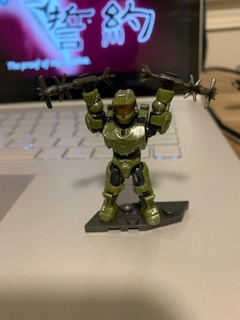chief: (77, 72, 178, 228)
spartan: (75, 70, 176, 226)
up: (77, 72, 172, 160)
